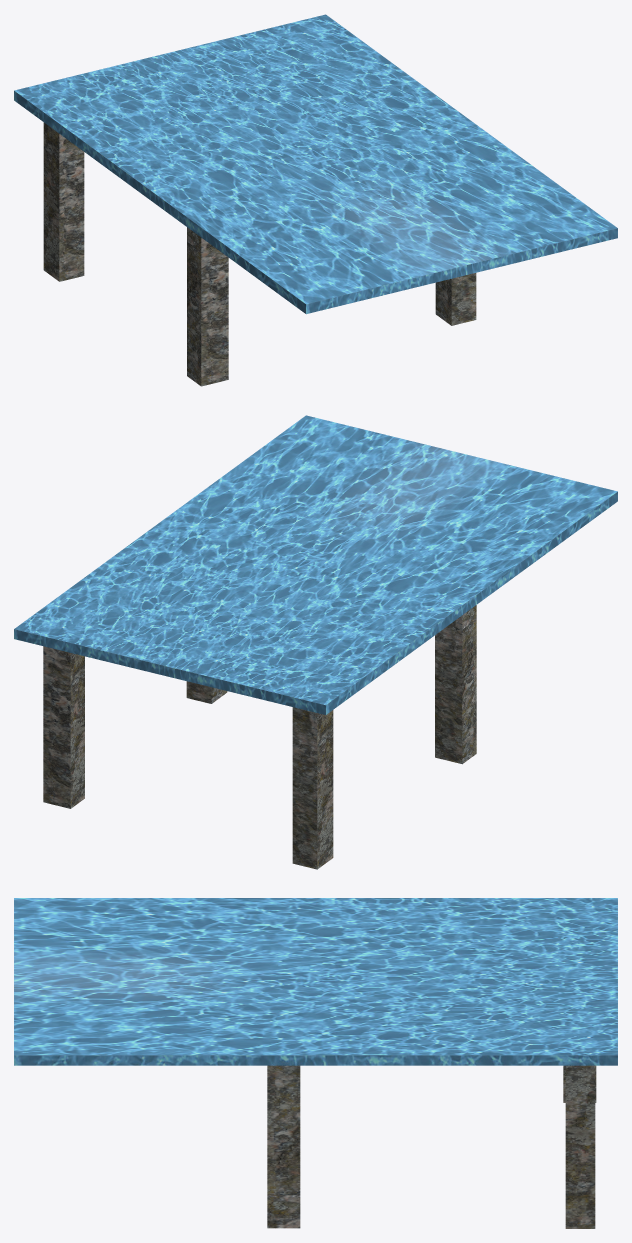
3 renders of one model, top to bottom at view 1: azimuth 30°, elevation 25°; view 2: azimuth 150°, elevation 25°; view 3: azimuth 270°, elevation 25°, orthographic. The views are drawn at different scales.
Parts seen in each view (by area): view 1: Table; view 2: Table; view 3: Table.
Boxes of the visible parts, <box> form: Table: <box>14,14,617,386</box>; Table: <box>14,415,617,869</box>; Table: <box>14,898,617,1228</box>.
Bounding box in the file's own units: 1 × 0.5414 × 1.62.
2 materials, 2 textured.
